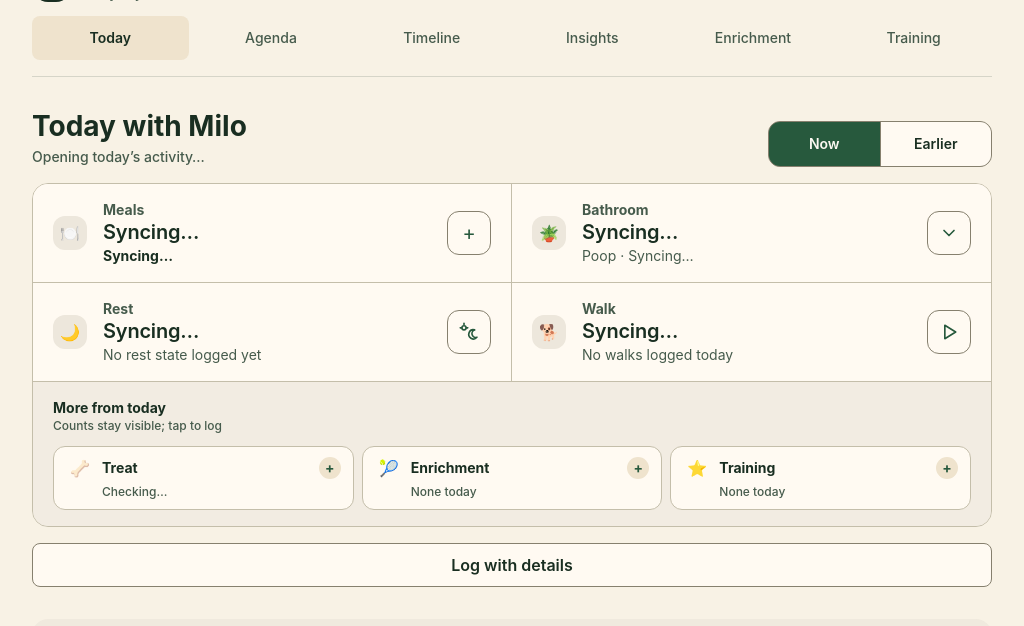
Test: DashboardPage walk controls › submits a dog-local backdated start and collapses after success
Click the button "Earlier" at (936, 144), box [880,122,991,166]
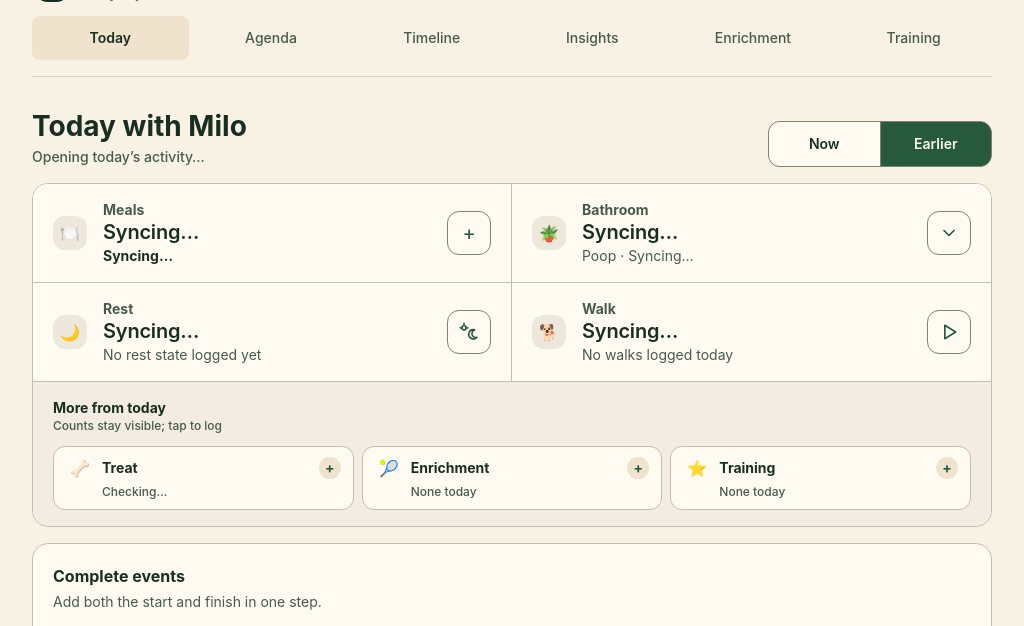
Click the button named "Start walk" at (949, 332), box [927,310,971,354]
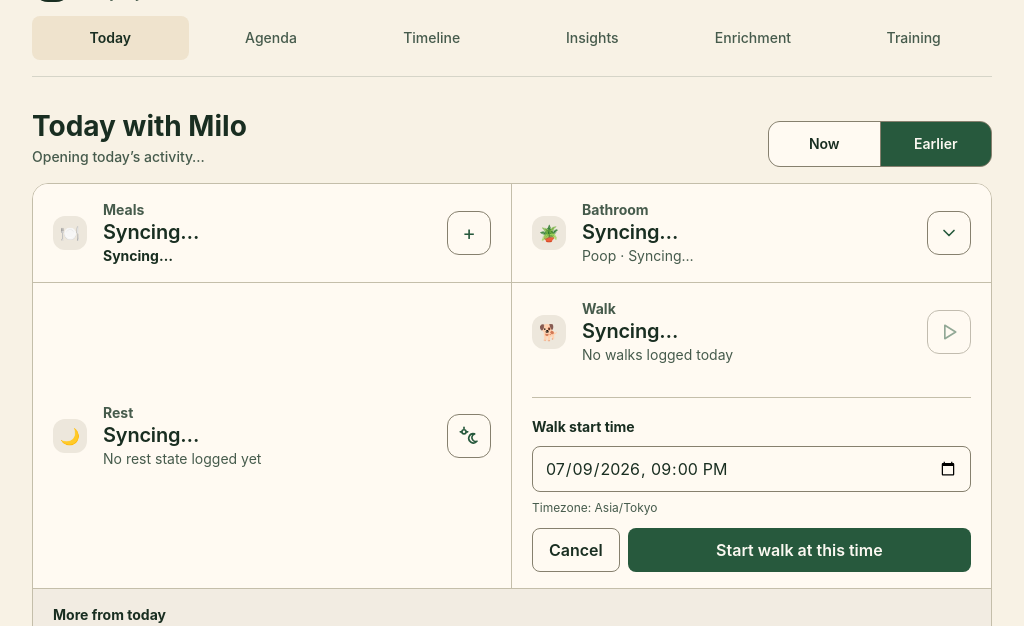
Replace the text in the field labelled "Walk start time" with "2026-07-09T09:15" at (752, 469), box [532,446,971,492]
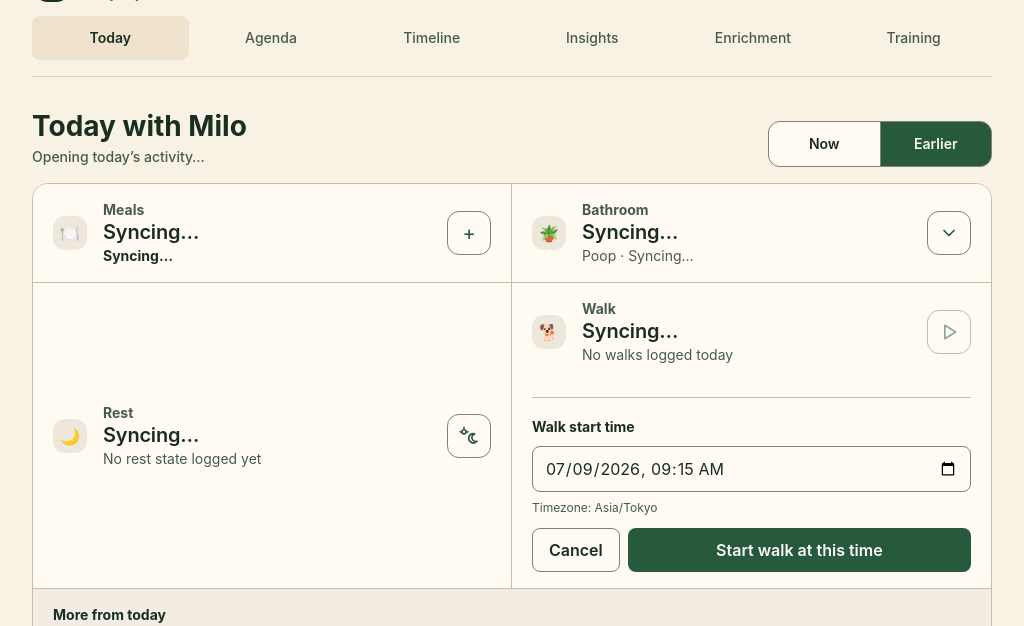
Click the button "Start walk at this time" at (799, 550), box [628,528,971,572]
(page scrolled)
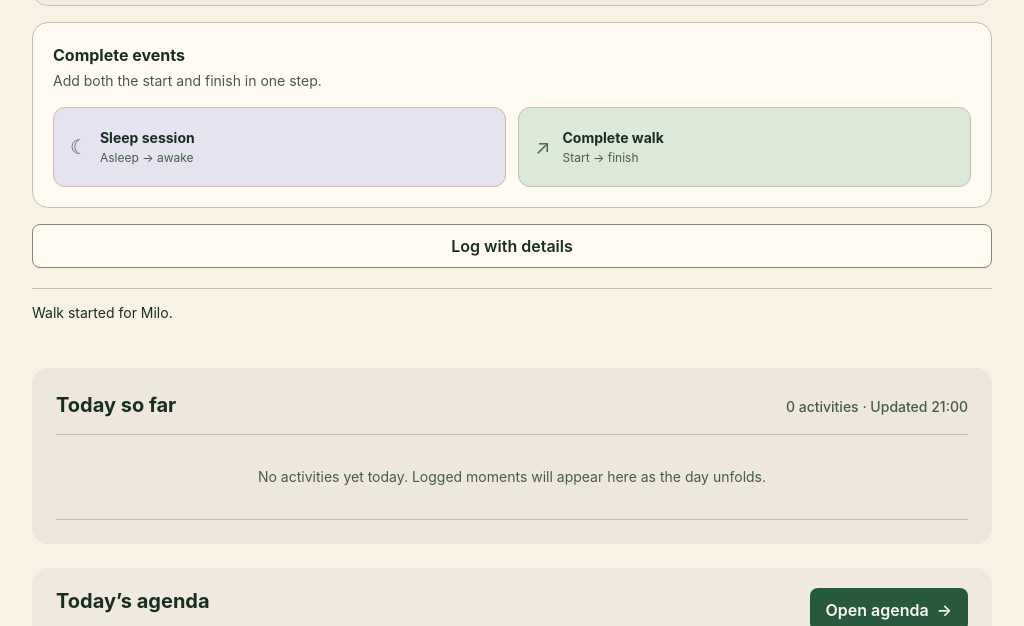
Result: the message reads "Walk started for Milo." at [32,304,173,320]
